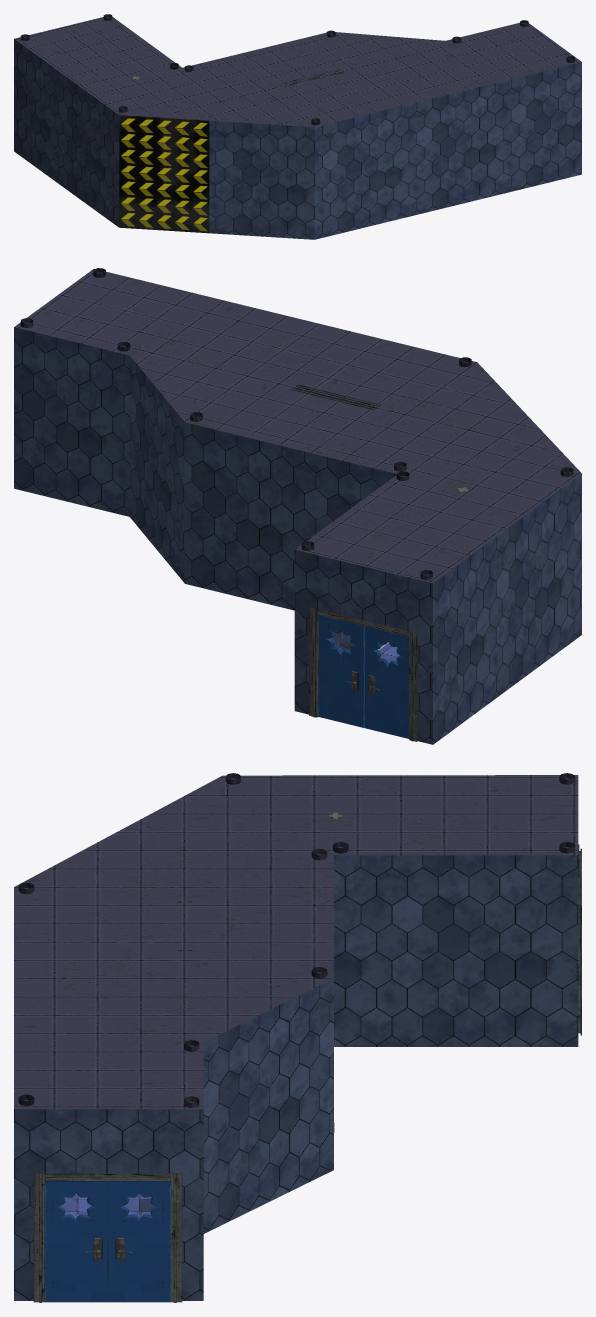
File: Level_11_PC.fbx
3 views of the same model, one above another, from view 1: azimuth 30°, elevation 25°; view 2: azimuth 150°, elevation 25°; view 3: azimuth 270°, elevation 25° (orthographic). The views are drawn at different scales.
Parts seen in each view (by area): view 1: Wall, Roof, polySurface186, Body; view 2: Wall, Roof, polySurface132, polySurface133, polySurface183, polySurface186; view 3: Roof, Wall, polySurface132, polySurface133, polySurface183 (×2), polySurface186, Floor.
Part boxes in pixels (x1,y1,x2,y2): Wall: (14,39,581,239); Roof: (14,17,581,127); polySurface186: (20,14,574,125); Body: (281,69,343,87); Wall: (14,327,581,744); Roof: (14,269,581,583); polySurface132: (318,615,364,727); polySurface133: (365,626,409,738); polySurface183: (309,607,417,741); polySurface186: (20,268,573,579); Roof: (14,775,578,1109); Wall: (14,855,578,1300); polySurface132: (108,1181,170,1302); polySurface133: (45,1181,107,1302); polySurface183 (×2): (33,848,581,1302); polySurface186: (18,773,574,1107); Floor: (60,1193,155,1218).
Bounding box in the file's own units: 39.06 × 10.67 × 27.83.
